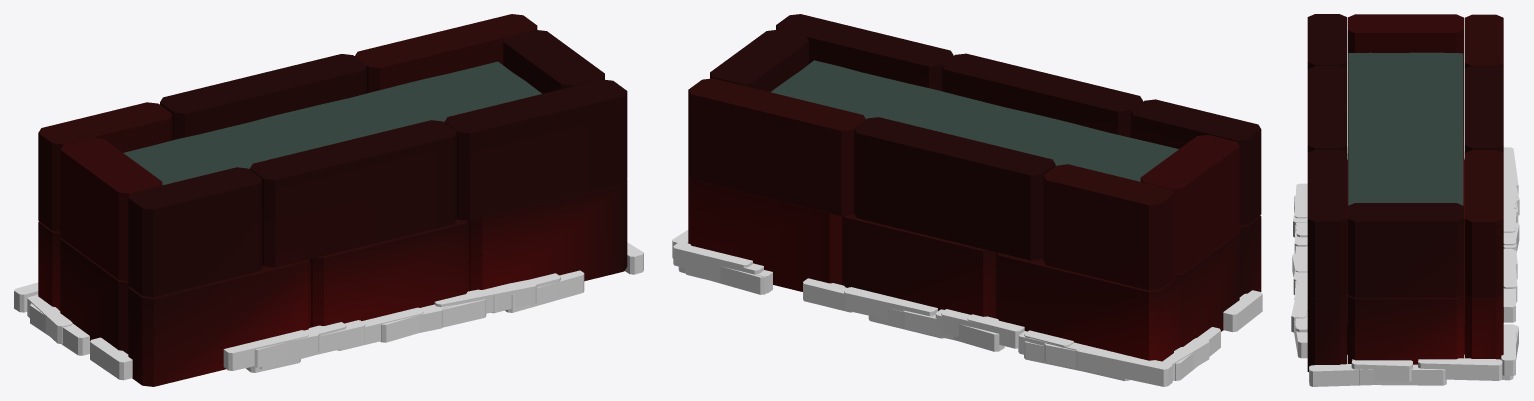
The model's file is SilverbrookPropWaterTrough.fbx.
The picture shows the model from 3 angles, left to right: view 1: azimuth 30°, elevation 25°; view 2: azimuth 150°, elevation 25°; view 3: azimuth 270°, elevation 25°; orthographic projection. The views are drawn at different scales.
Parts seen in each view (by area): view 1: SM_SBPropWaterTrough_Granite, SM_SBPropWaterTrough_Water, SM_SBPropWaterTrough_Moss; view 2: SM_SBPropWaterTrough_Granite, SM_SBPropWaterTrough_Moss, SM_SBPropWaterTrough_Water; view 3: SM_SBPropWaterTrough_Granite, SM_SBPropWaterTrough_Water, SM_SBPropWaterTrough_Moss.
Boxes of the visible parts, x1,y1,x2,y2 form: SM_SBPropWaterTrough_Granite: (38, 14, 627, 386); SM_SBPropWaterTrough_Water: (123, 61, 541, 185); SM_SBPropWaterTrough_Moss: (14, 242, 643, 380); SM_SBPropWaterTrough_Granite: (688, 14, 1261, 361); SM_SBPropWaterTrough_Moss: (672, 230, 1262, 386); SM_SBPropWaterTrough_Water: (771, 60, 1178, 181); SM_SBPropWaterTrough_Granite: (1307, 14, 1503, 371); SM_SBPropWaterTrough_Water: (1348, 52, 1463, 205); SM_SBPropWaterTrough_Moss: (1291, 147, 1519, 386).
Bounding box in the file's own units: 212 × 72.06 × 93.13.
